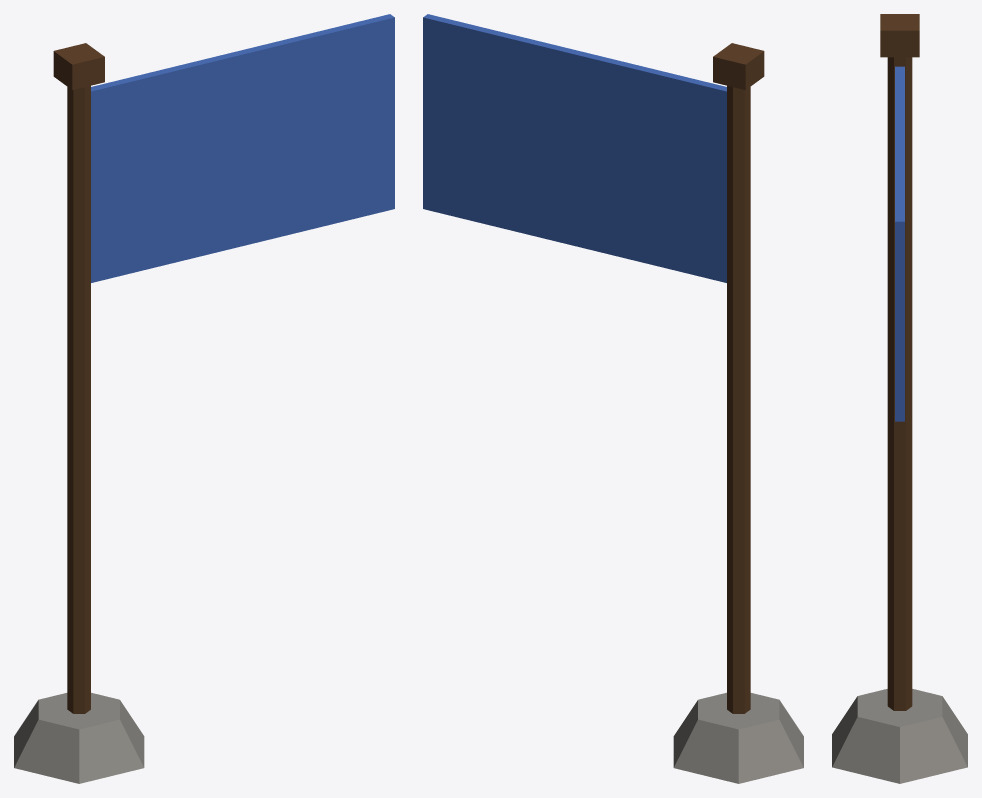
Rendered from rally_flag.obj.
3 views of the same model, side by side, from view 1: azimuth 30°, elevation 25°; view 2: azimuth 150°, elevation 25°; view 3: azimuth 270°, elevation 25° (orthographic). The views are drawn at different scales.
Visible parts, largest first — view 1: Cloth, Pole, Base; view 2: Cloth, Pole, Base; view 3: Pole, Base, Cloth.
Boxes of the visible parts, x1,y1,x2,y2 form: Cloth: (91,14,394,282); Pole: (53,43,104,713); Base: (14,692,144,783); Cloth: (423,14,726,282); Pole: (713,43,764,713); Base: (673,692,803,783); Pole: (880,14,919,710); Base: (832,689,967,783); Cloth: (895,66,904,421).
Bounding box in the file's own units: 0.93 × 1.64 × 0.2772.
